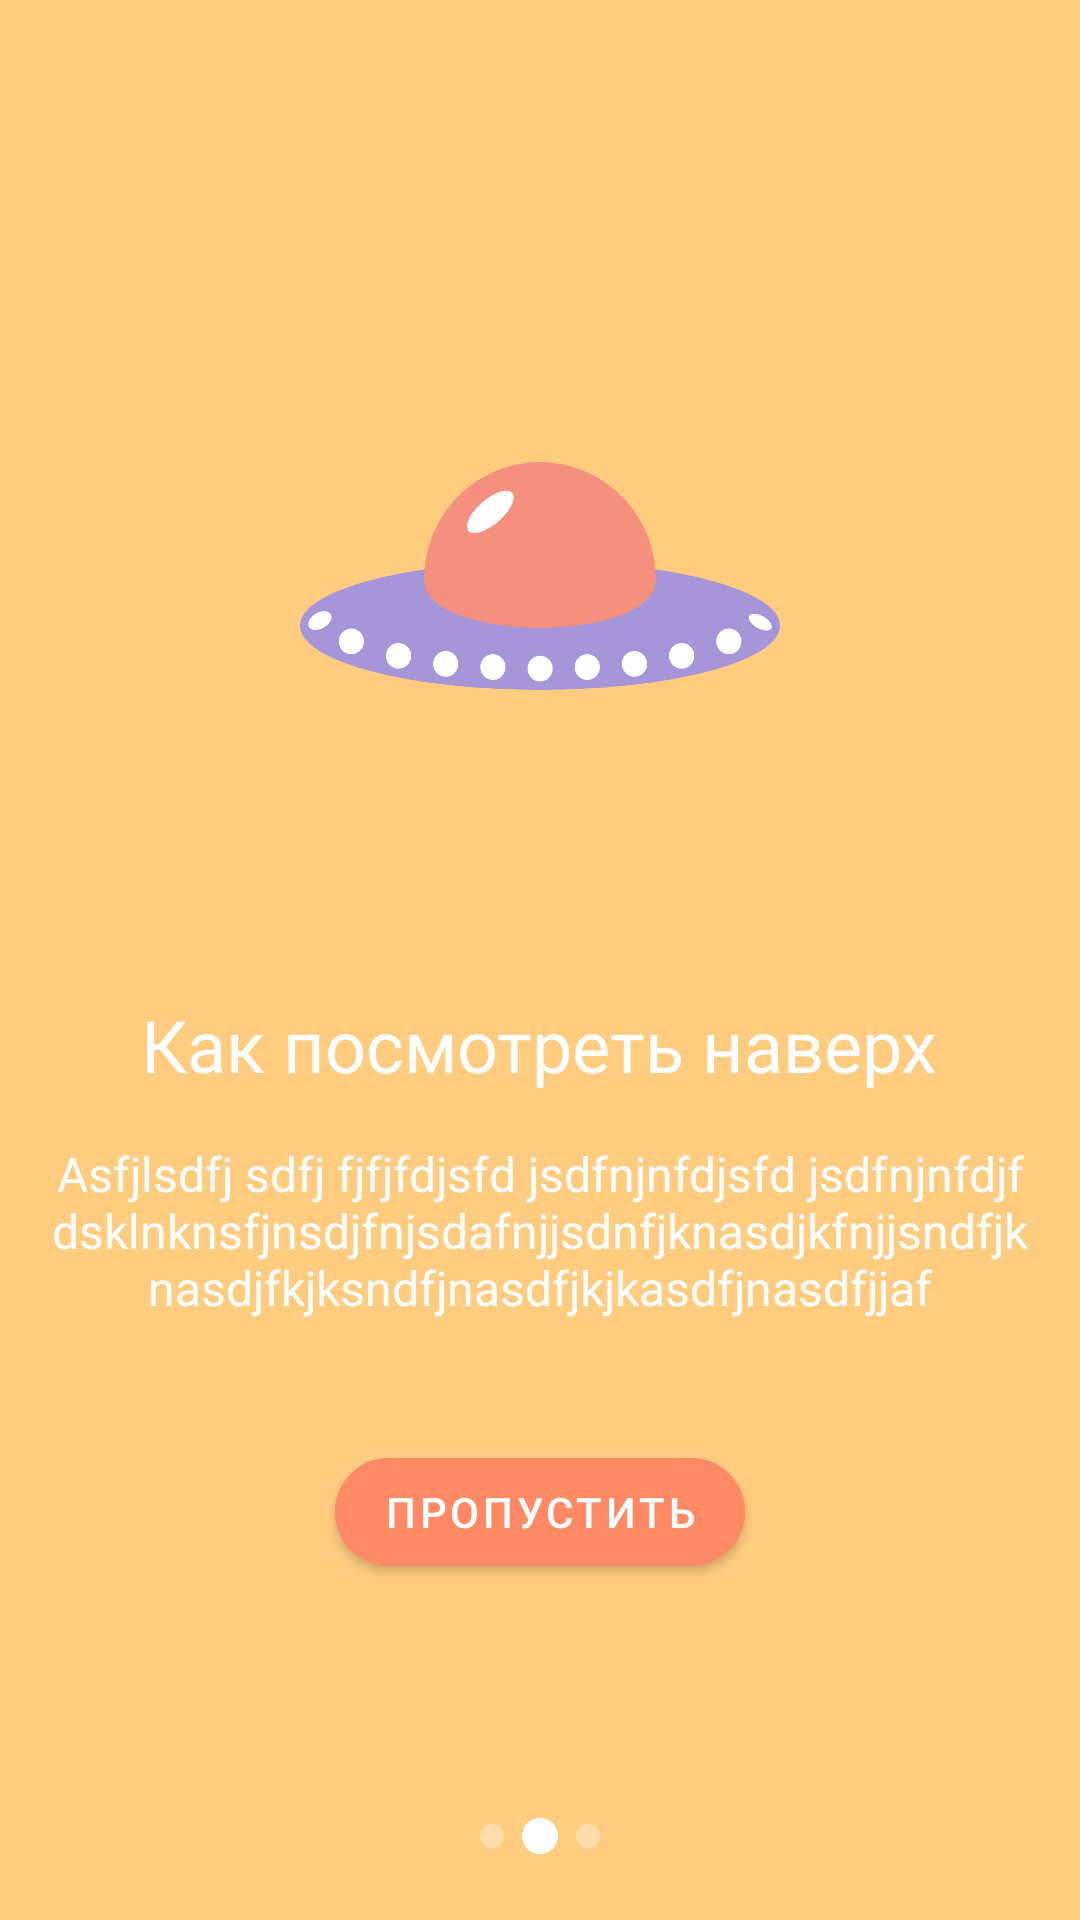

Icon click points for this 1080px x 1920px phone screenshot, format [x,y]:
Paiging: [540,1836]
